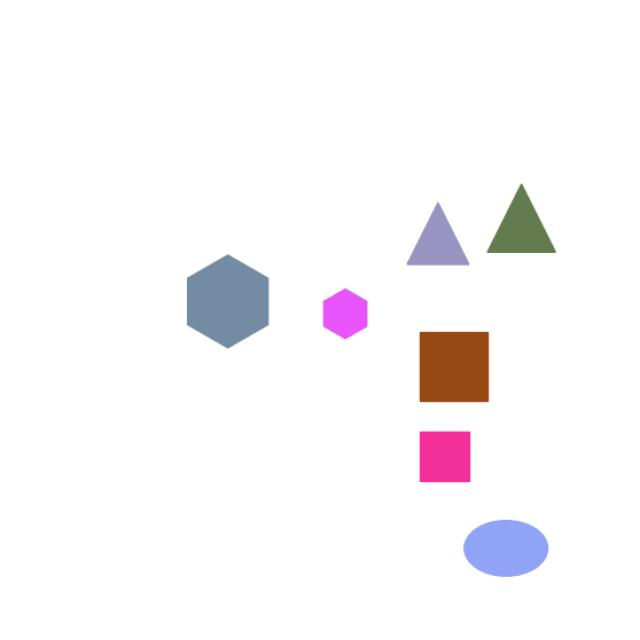Hexagon: (172, 248, 295, 354), (314, 279, 400, 358)
Oval: (450, 514, 562, 575)
Triangle: (474, 176, 568, 282), (394, 202, 478, 276)
square: (410, 326, 523, 421), (406, 430, 487, 492)
